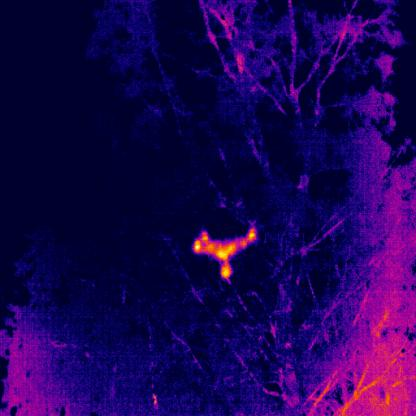drone: (192, 226, 257, 277)
